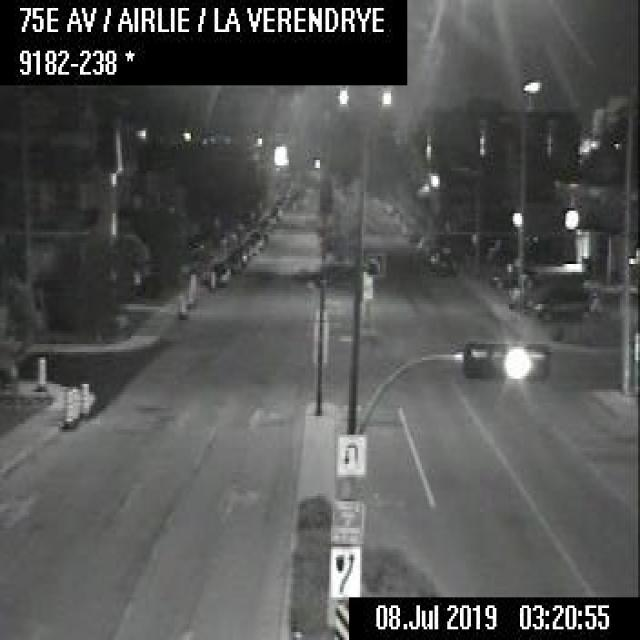construction: (61, 378, 72, 426), (78, 378, 89, 419), (34, 351, 46, 386), (186, 271, 196, 306), (70, 385, 79, 421), (176, 288, 186, 314), (207, 264, 215, 288)
vehicle: (508, 264, 583, 306), (533, 290, 590, 322), (490, 264, 520, 288), (427, 247, 451, 272), (212, 262, 228, 283)
